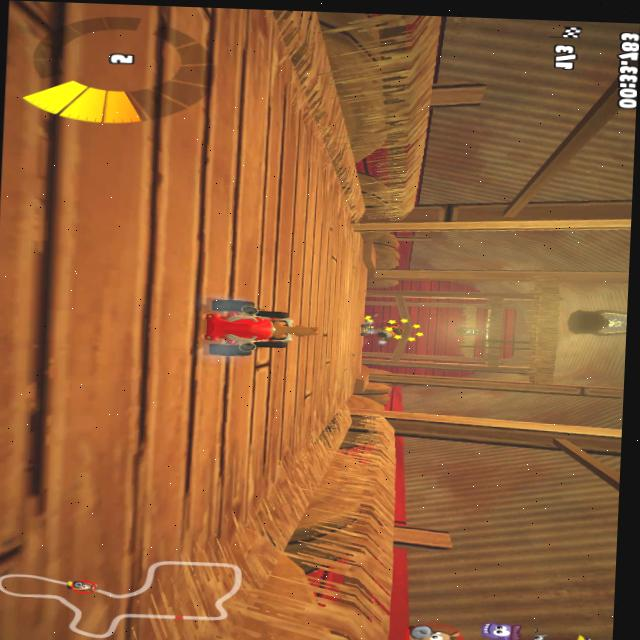enemy_kart: (353, 315, 405, 352)
player_kart: (189, 294, 330, 363)
track: (0, 287, 209, 640), (0, 130, 342, 298), (0, 0, 317, 144), (193, 359, 287, 548), (285, 364, 329, 464), (331, 309, 358, 416), (333, 236, 370, 311)
